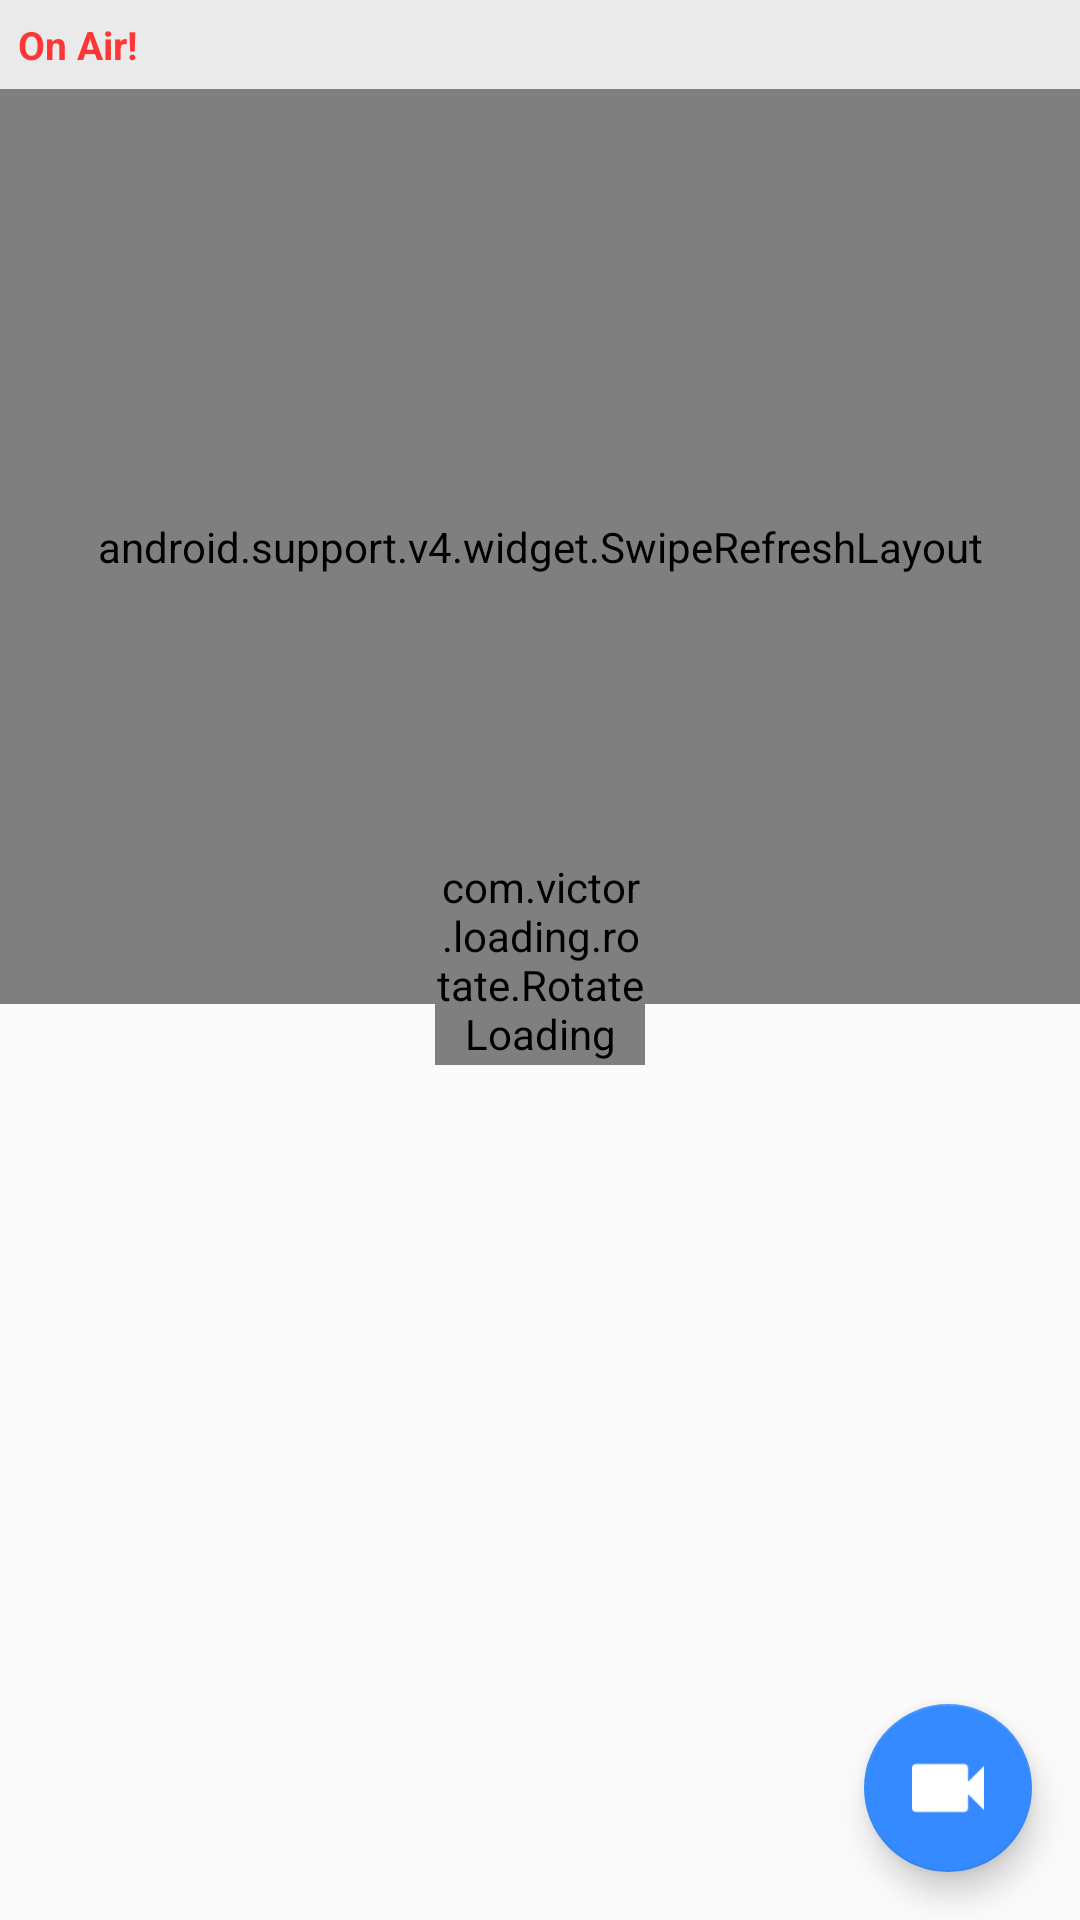

Icon click points for this 1080px×1920px phone screenshot, format (x,y):
recorder: (948,1788)
